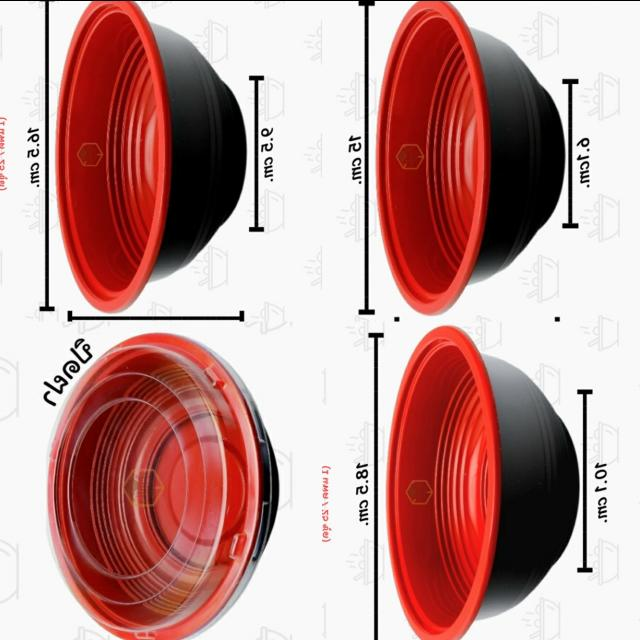plastik: (49, 334, 278, 640), (387, 326, 579, 640), (378, 0, 565, 314), (58, 0, 246, 311)
